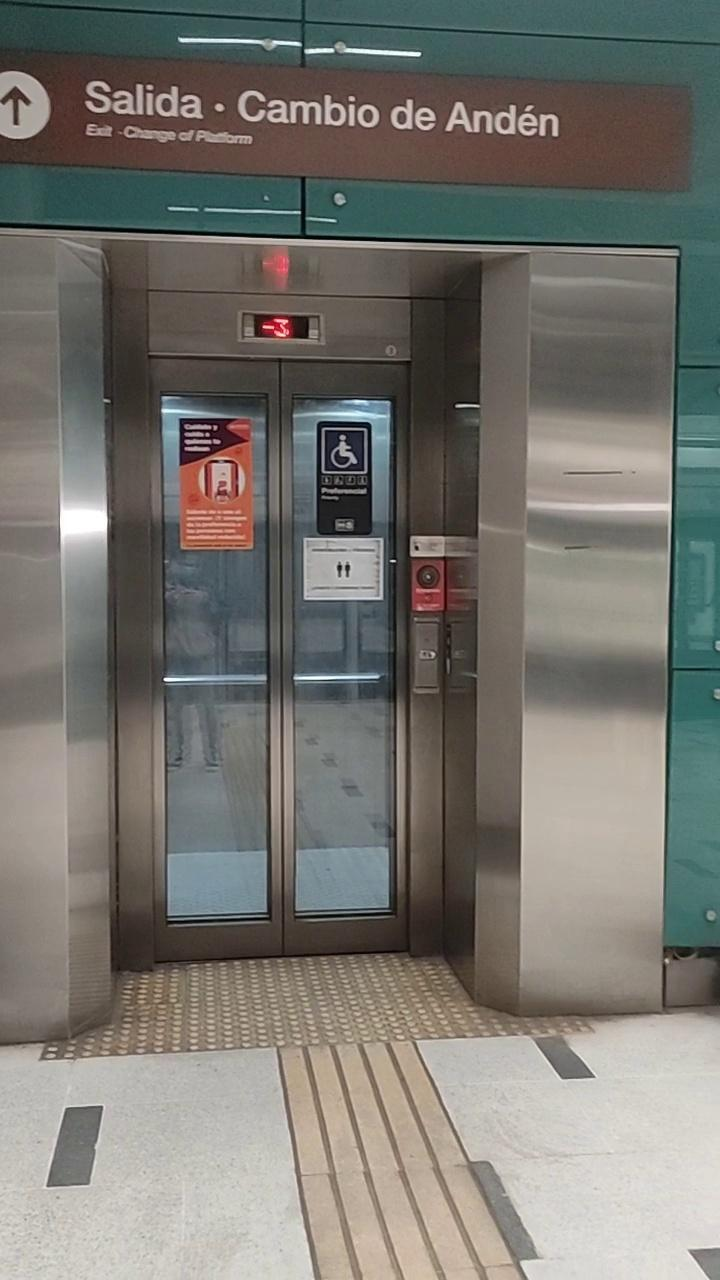handicapped symbol: (330, 434, 358, 468)
up arrow: (0, 84, 32, 128)
